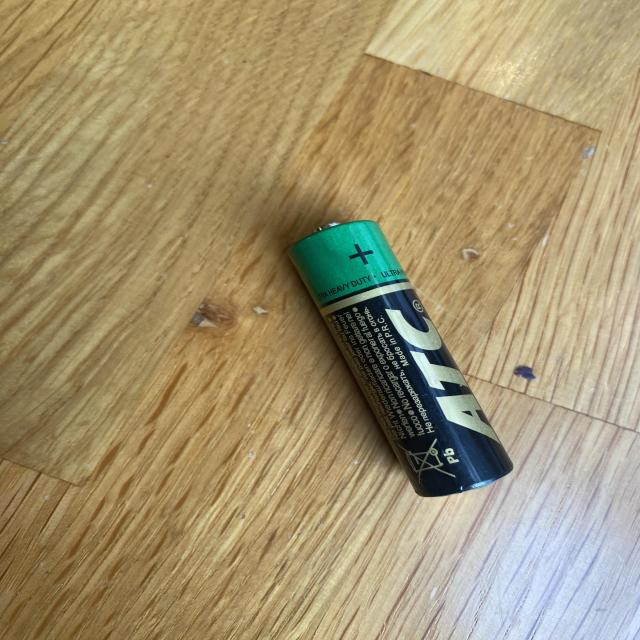AA: (286, 219, 514, 497)
